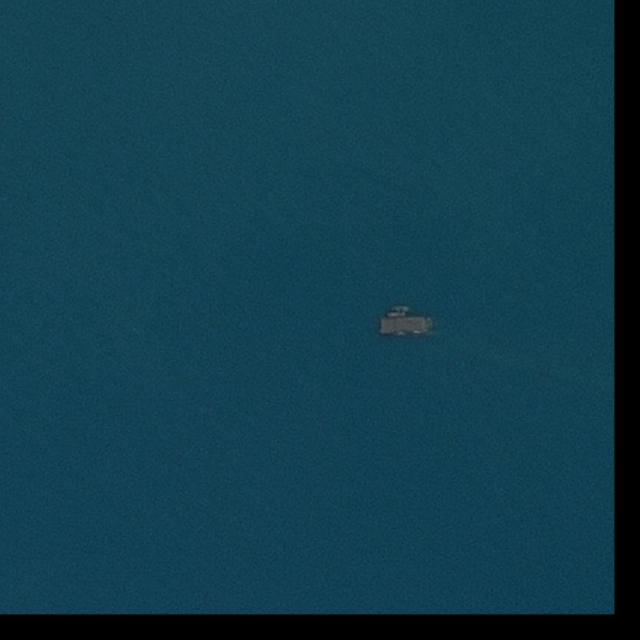ship: (391, 306, 411, 313), (387, 312, 406, 318)
